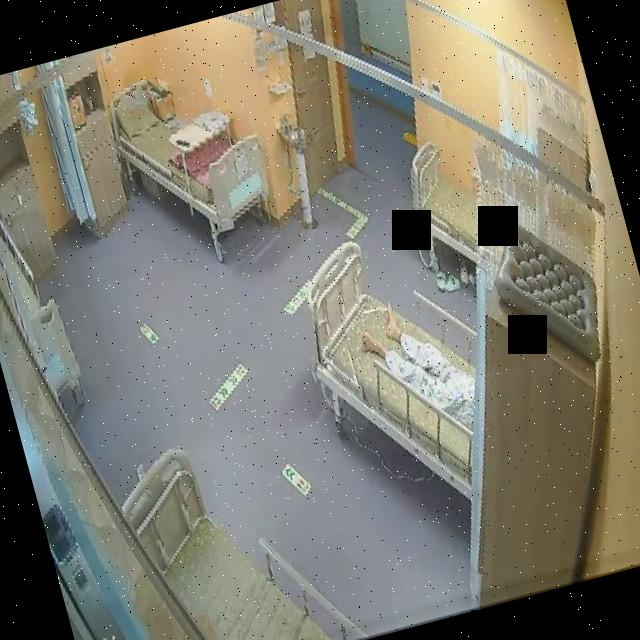bed: (284, 220, 508, 526), (109, 415, 367, 640), (98, 54, 282, 254), (397, 134, 492, 276)
lie: (352, 280, 485, 449)
patient: (352, 283, 484, 448)
